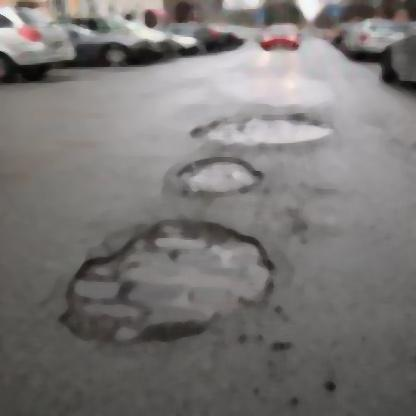Potholes: (64, 206, 272, 352)
